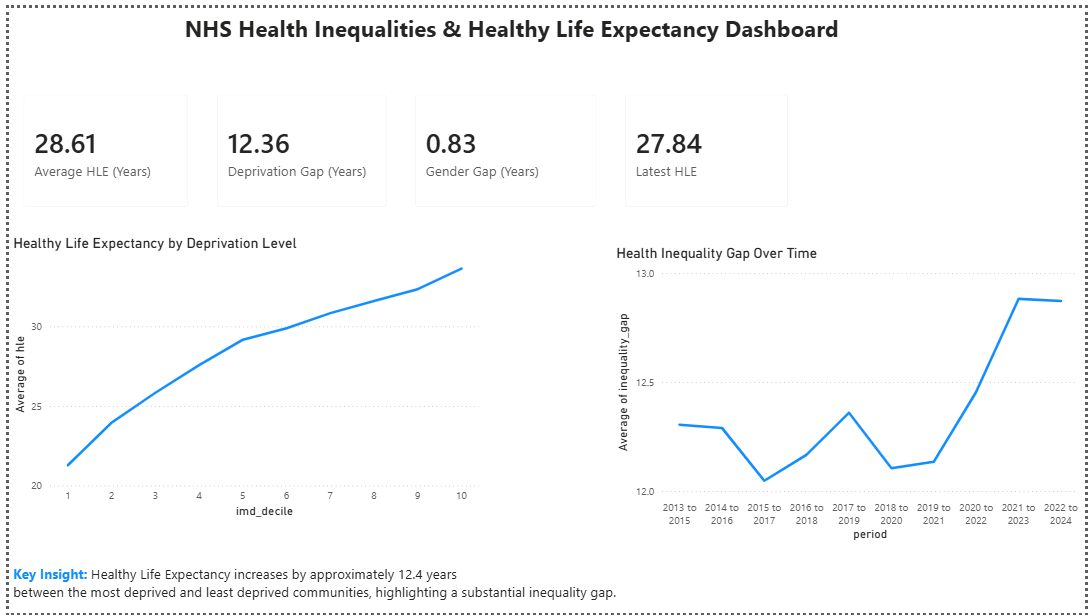

Layout of this report page (visuals, bound fields, positions):
{"tool":"powerbi","page":{"name":"Executive Summary","canvas":[1280,720],"ordinal":0},"visuals":[{"type":"lineChart","title":"Healthy Life Expectancy by Deprivation Level","fields":{"Category":["imd_hle.imd_decile"],"Y":["Avg(imd_hle.hle)"]},"box":[0,269.8,564.2,341.5],"z":0},{"type":"textbox","box":[0,0,1197.1,51.4],"z":1000},{"type":"lineChart","title":"Health Inequality Gap Over Time","fields":{"Category":["inequality_gap.period"],"Y":["Avg(inequality_gap.inequality_gap)"]},"box":[717,283,562.3,356.6],"z":2000},{"type":"cardVisual","fields":{"Data":["Sum(summary.Value)"]},"box":[0,86.4,230.3,168.2],"z":3000},{"type":"cardVisual","fields":{"Data":["Sum(summary.Value)"]},"box":[230.3,86.4,236.4,168.2],"z":4000},{"type":"cardVisual","fields":{"Data":["Sum(summary.Value)"]},"box":[466.7,86.4,250,168.2],"z":5000},{"type":"cardVisual","fields":{"Data":["Sum(summary.Value)"]},"box":[716.7,86.4,228.8,168.2],"z":6000},{"type":"textbox","box":[0,657.6,1278.8,62.1],"z":6001}]}

Visuals, with their boxes in screenshot pixels (x1, y1, x2, y2), scaled from the page's 1280x720 canvas onto the 1089x616 screenshot:
"Healthy Life Expectancy by Deprivation Level" lineChart: (0,231,480,523)
textbox: (0,0,1018,44)
"Health Inequality Gap Over Time" lineChart: (610,242,1088,547)
cardVisual - Sum(summary.Value): (0,74,196,218)
cardVisual - Sum(summary.Value): (196,74,397,218)
cardVisual - Sum(summary.Value): (397,74,610,218)
cardVisual - Sum(summary.Value): (610,74,804,218)
textbox: (0,563,1088,615)
